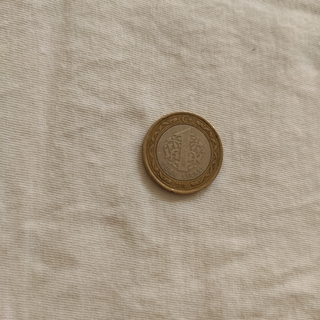1TL: (140, 110, 225, 196)
